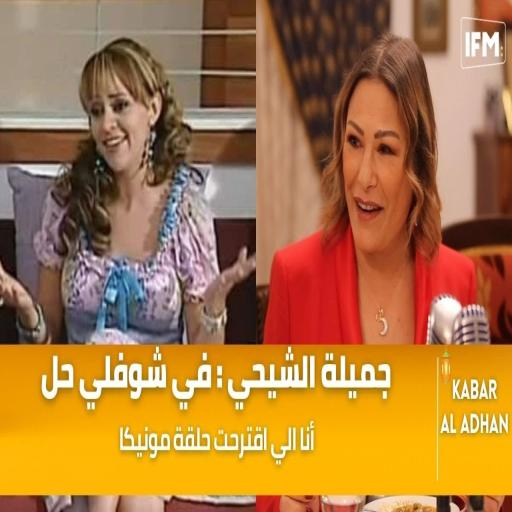zeineb: (342, 78, 413, 252)
